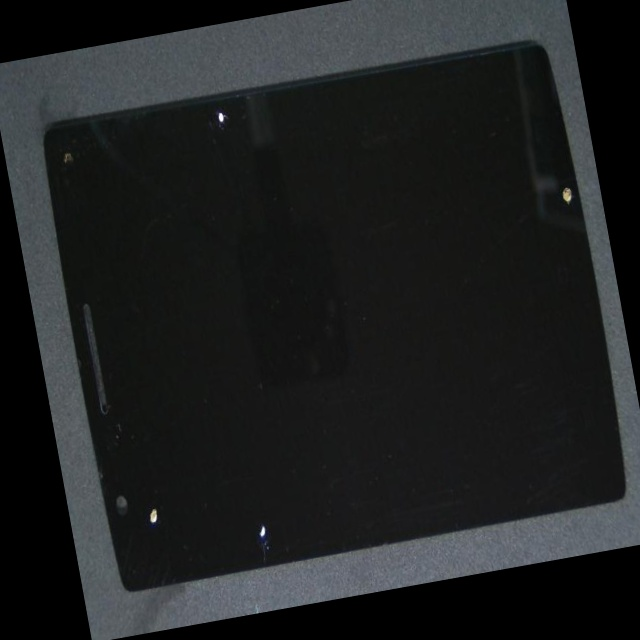stain: (130, 251, 364, 625), (76, 249, 212, 634), (108, 36, 330, 163)
